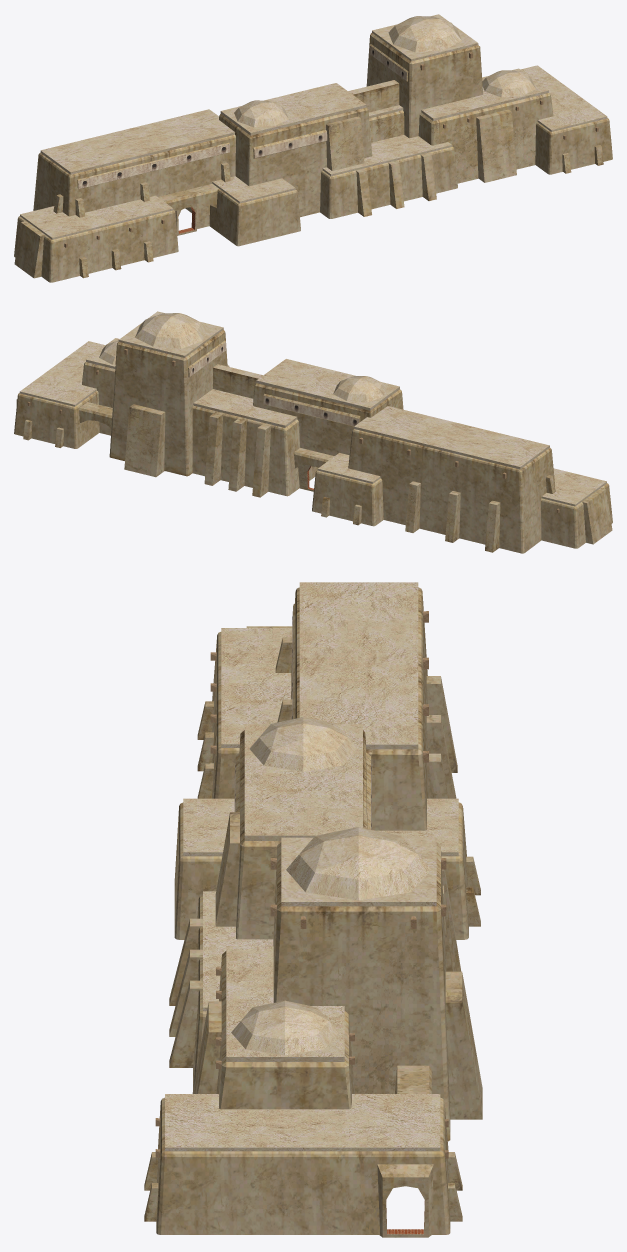
File: thm_tato_block_bldg_64x16_s01_r0_exterior_mesh_r0_l1.fbx
3 views of the same model, one above another, from view 1: azimuth 30°, elevation 25°; view 2: azimuth 150°, elevation 25°; view 3: azimuth 270°, elevation 25° (orthographic). The views are drawn at different scales.
Visible parts, largest first — view 1: mesh_node; view 2: mesh_node; view 3: mesh_node.
Part boxes in pixels (left/top/right/bottom): mesh_node: left=14, top=14, right=612, bottom=282; mesh_node: left=14, top=311, right=612, bottom=553; mesh_node: left=144, top=582, right=482, bottom=1237.
Size of the model in its own units: 69.15 by 16.12 by 18.41.
